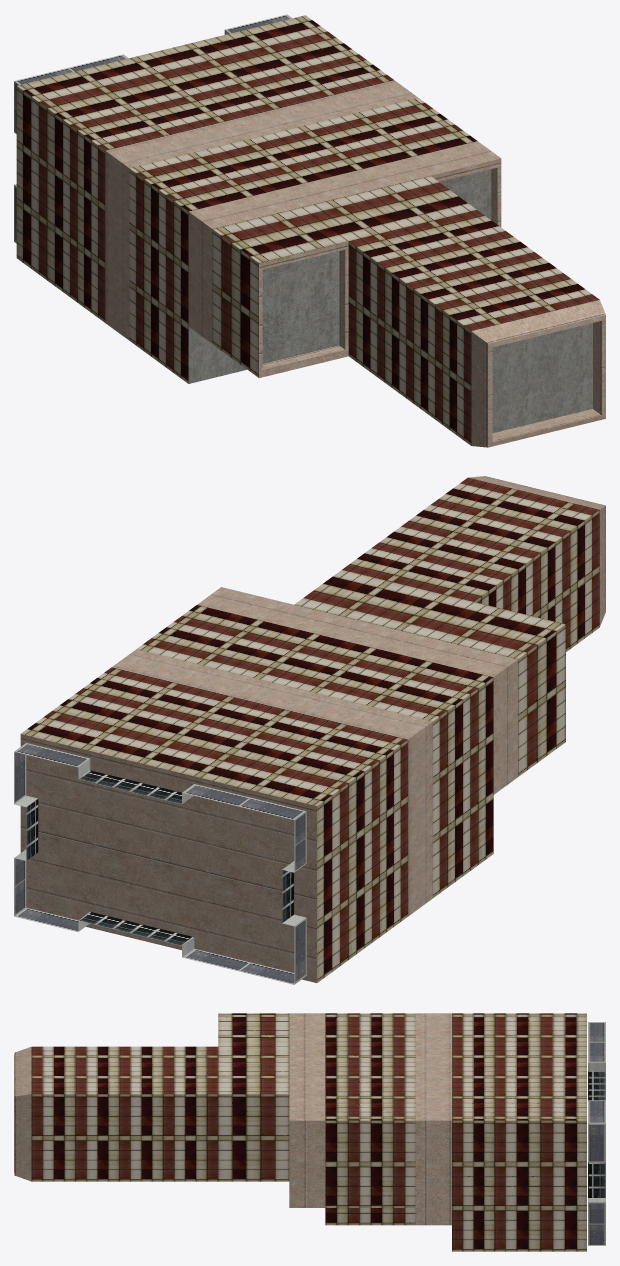
Rendered from skyscraper_windowF_04.obj.
3 renders of one model, top to bottom at view 1: azimuth 30°, elevation 25°; view 2: azimuth 150°, elevation 25°; view 3: azimuth 270°, elevation 25°, orthographic. The views are drawn at different scales.
Visible parts, largest first — view 1: Object05; view 2: Object05; view 3: Object05.
Boxes of the visible parts, left/top/right/bottom form: Object05: left=14, top=14, right=605, bottom=447; Object05: left=14, top=476, right=605, bottom=984; Object05: left=14, top=1013, right=605, bottom=1251.
Size of the model in its own units: 84.23 by 48 by 196.
Materials: 5 (5 with a texture image).
